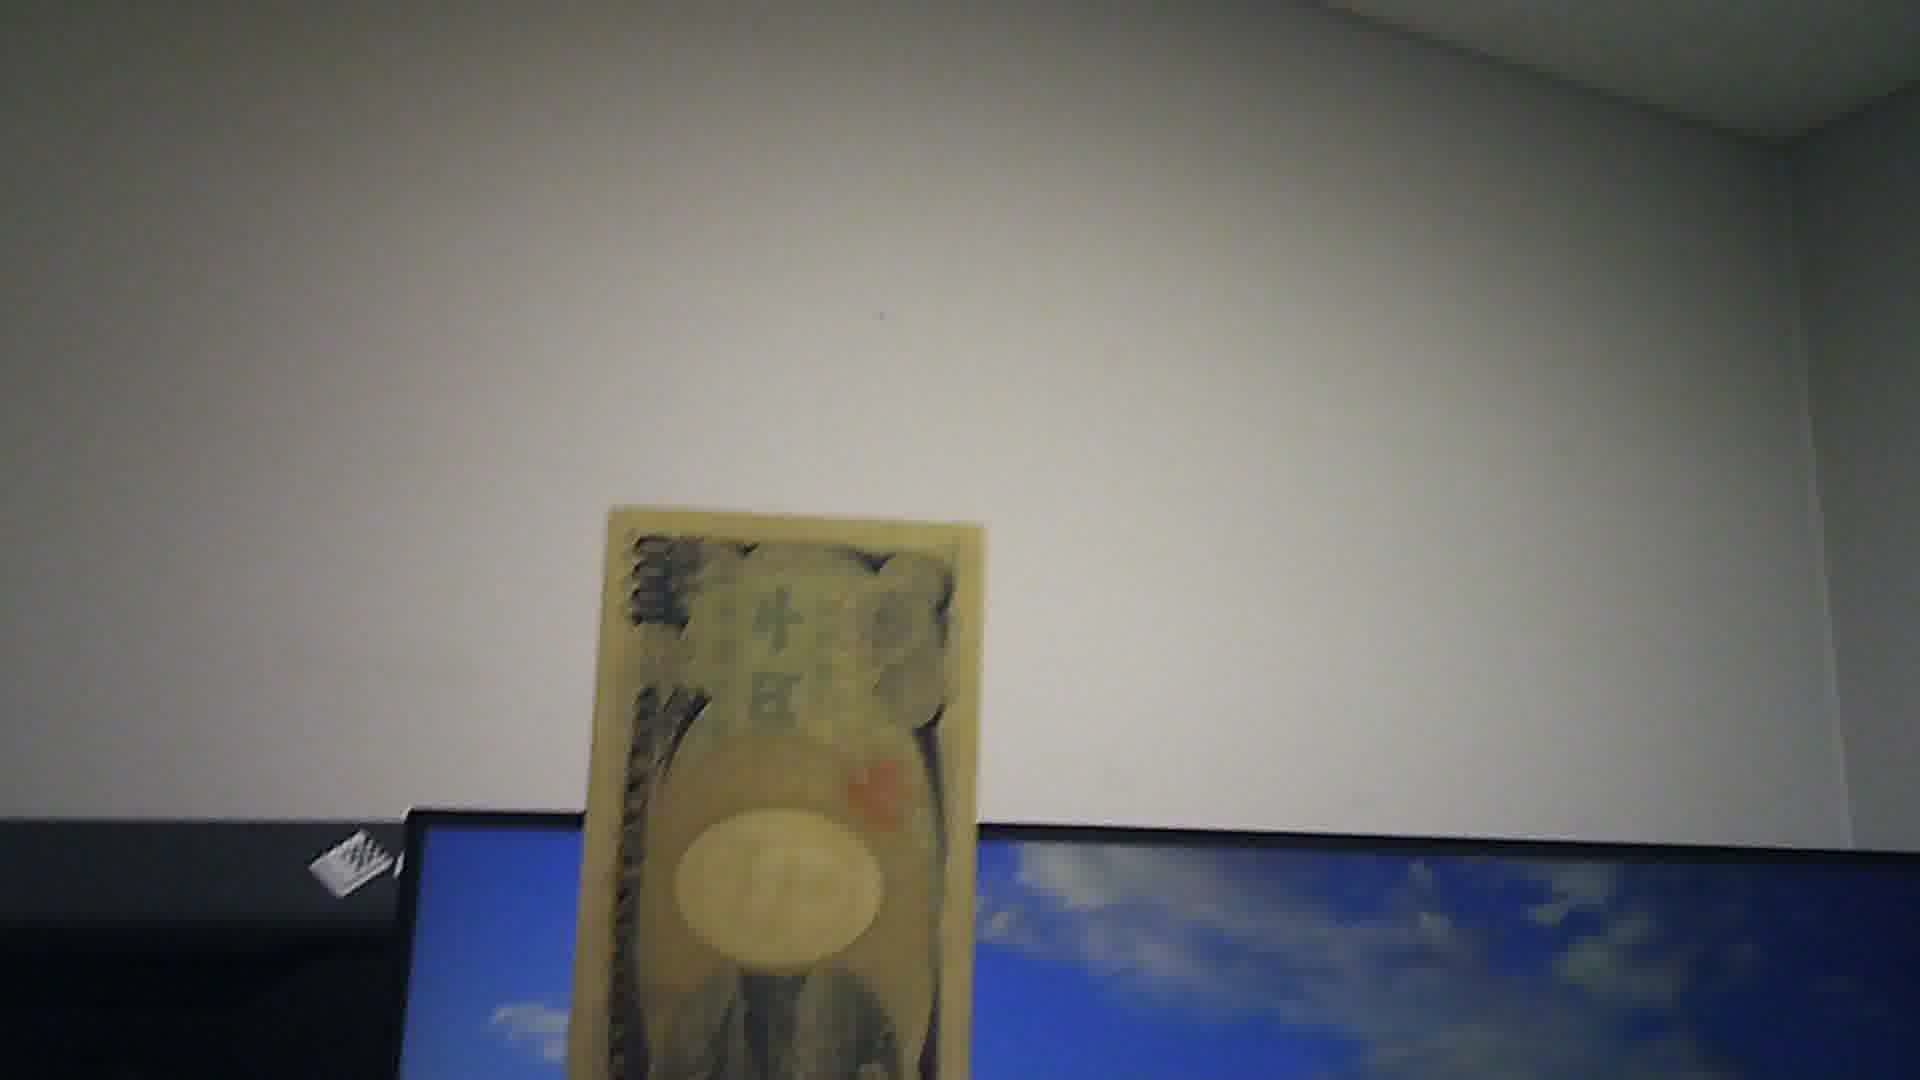1,000 Yen: (567, 498, 982, 1079)
